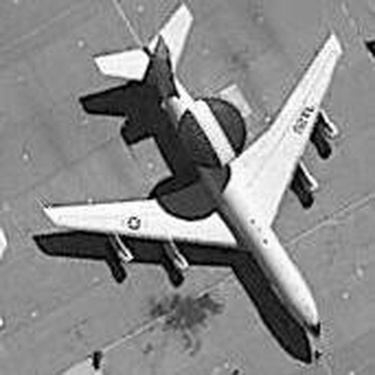airplane: (21, 1, 355, 354)
